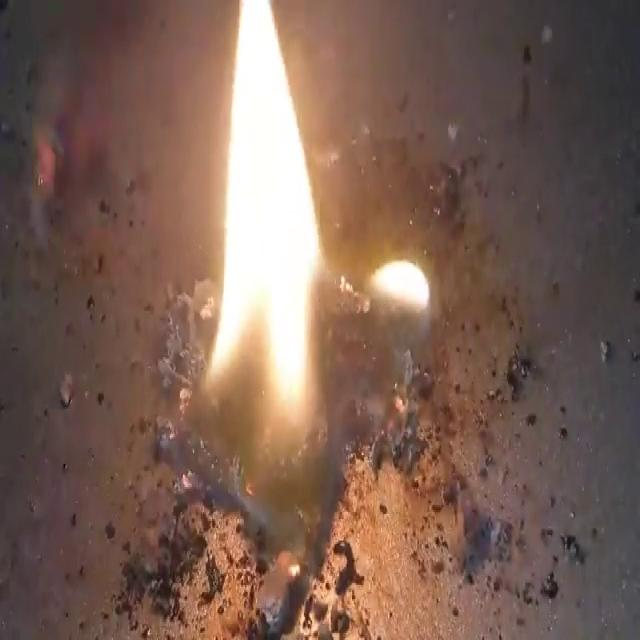Fire: (204, 4, 324, 434)
